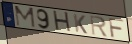9: (36, 9, 51, 30)
F: (107, 17, 125, 39)
H: (52, 10, 73, 34)
K: (72, 13, 89, 35)
M: (14, 5, 37, 29)
R: (89, 15, 109, 38)
